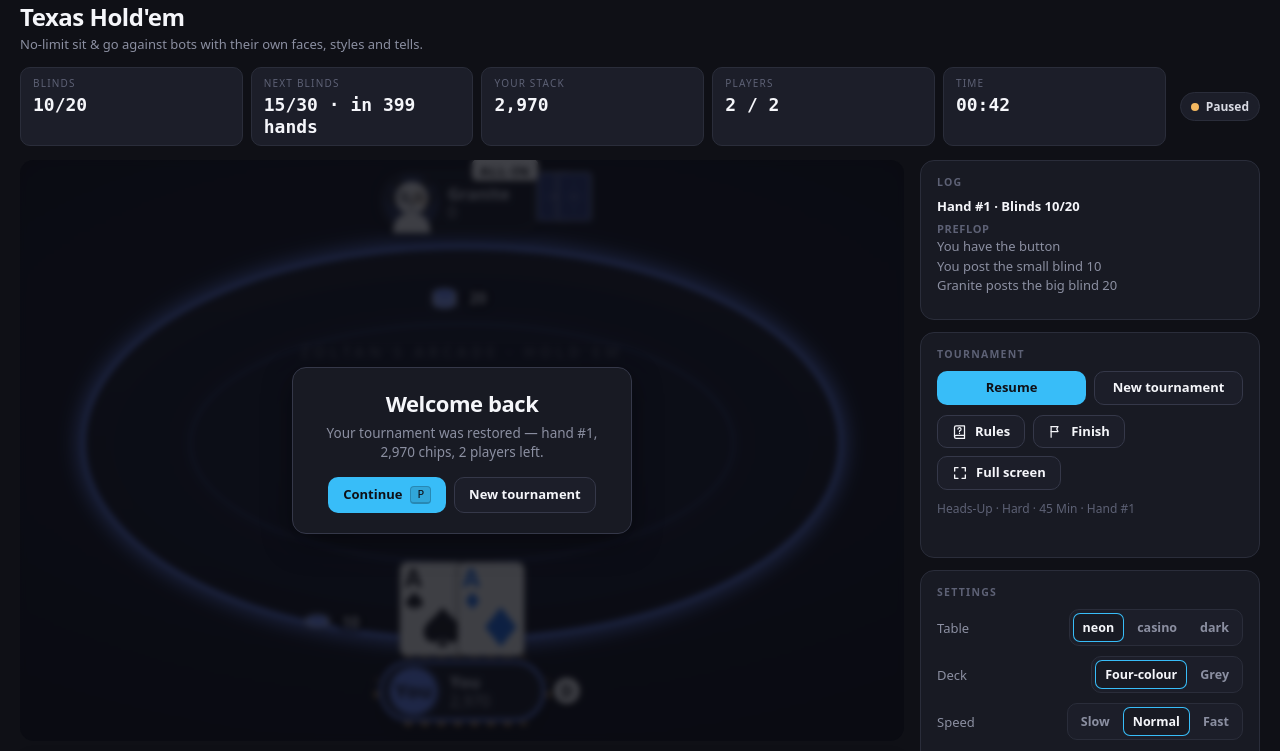
Test: <HoldemGame /> › a won run shows the result and reports the score once
The image size is (1280, 751).
Click the button "Continue P". click: [387, 495]
box: [328,477,446,513]
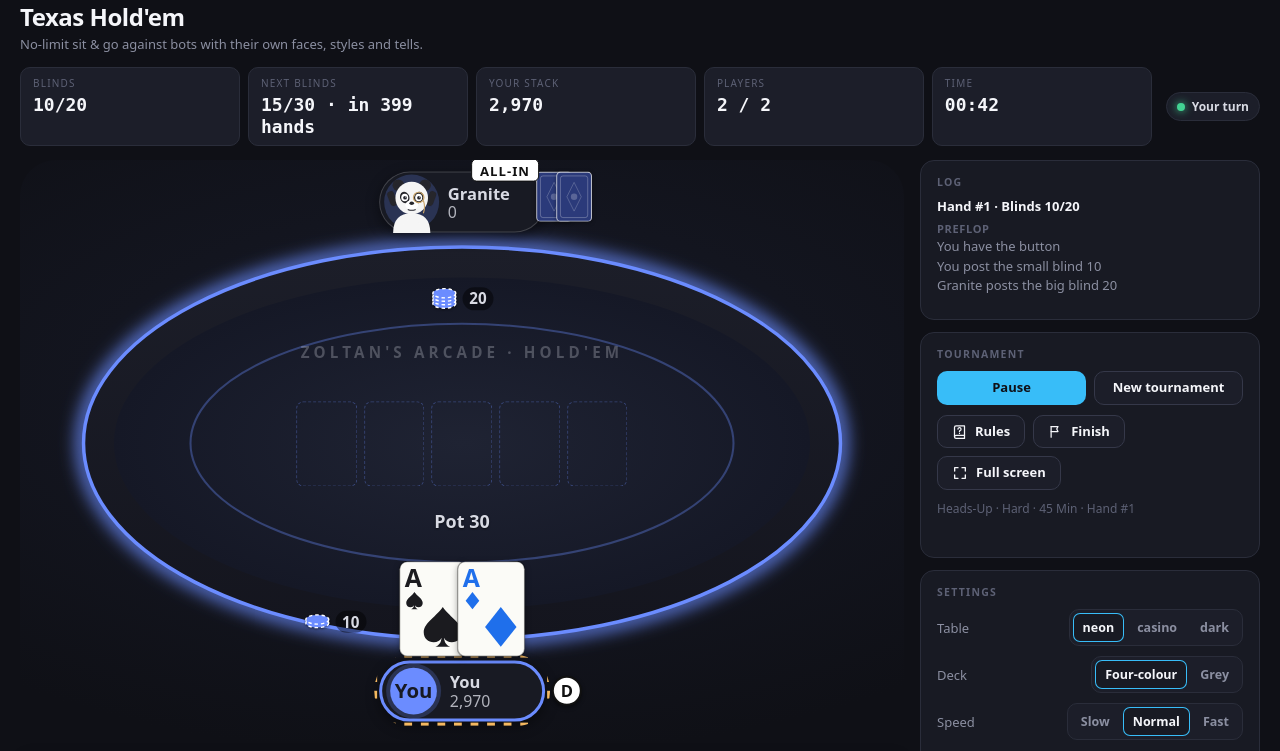
Press c
Wait 18000 ms
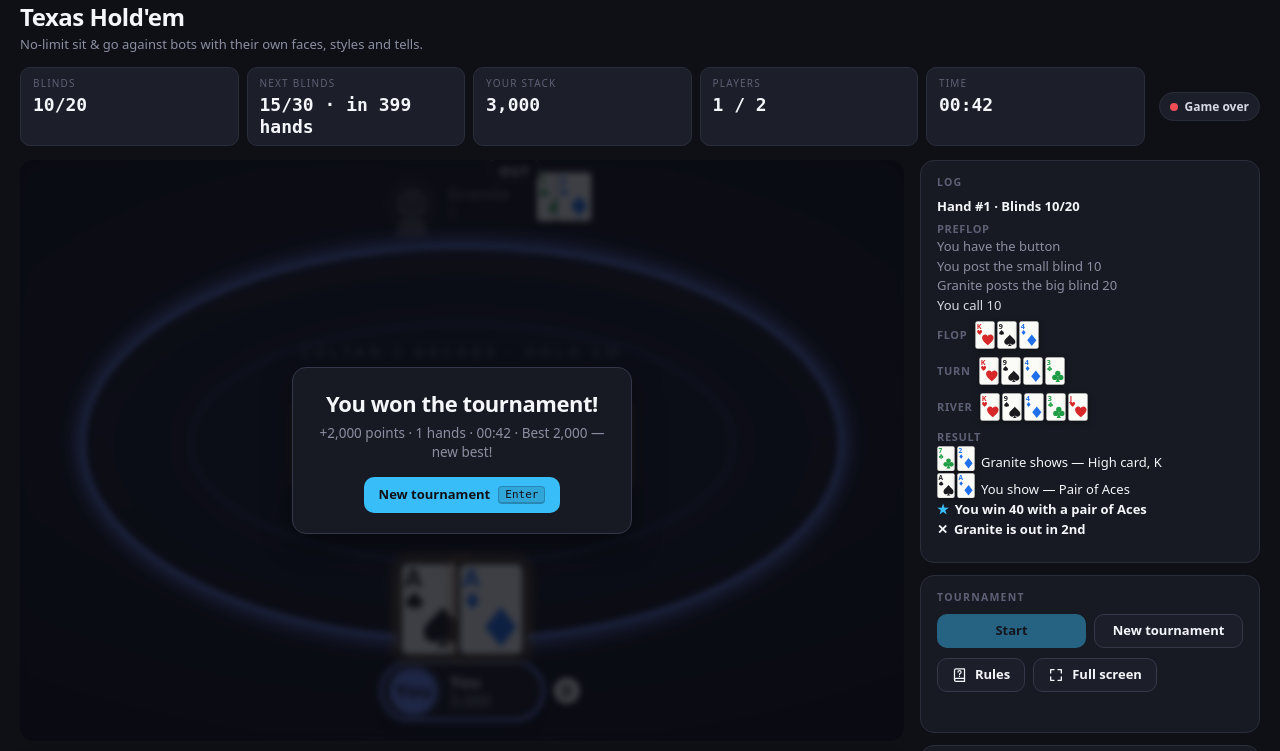
Check: the dialog "You won the tournament!" is shown, box [20,160,904,740]
